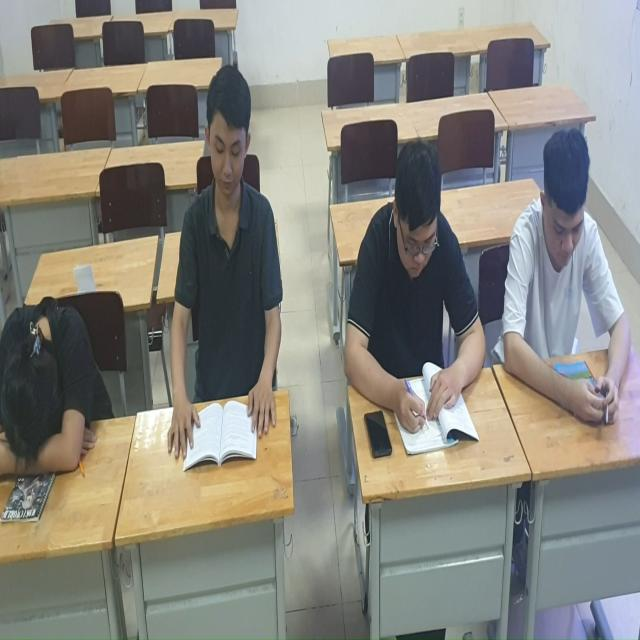read: (167, 68, 289, 471), (345, 140, 491, 467), (500, 120, 640, 434)
sleep: (1, 270, 114, 499)
